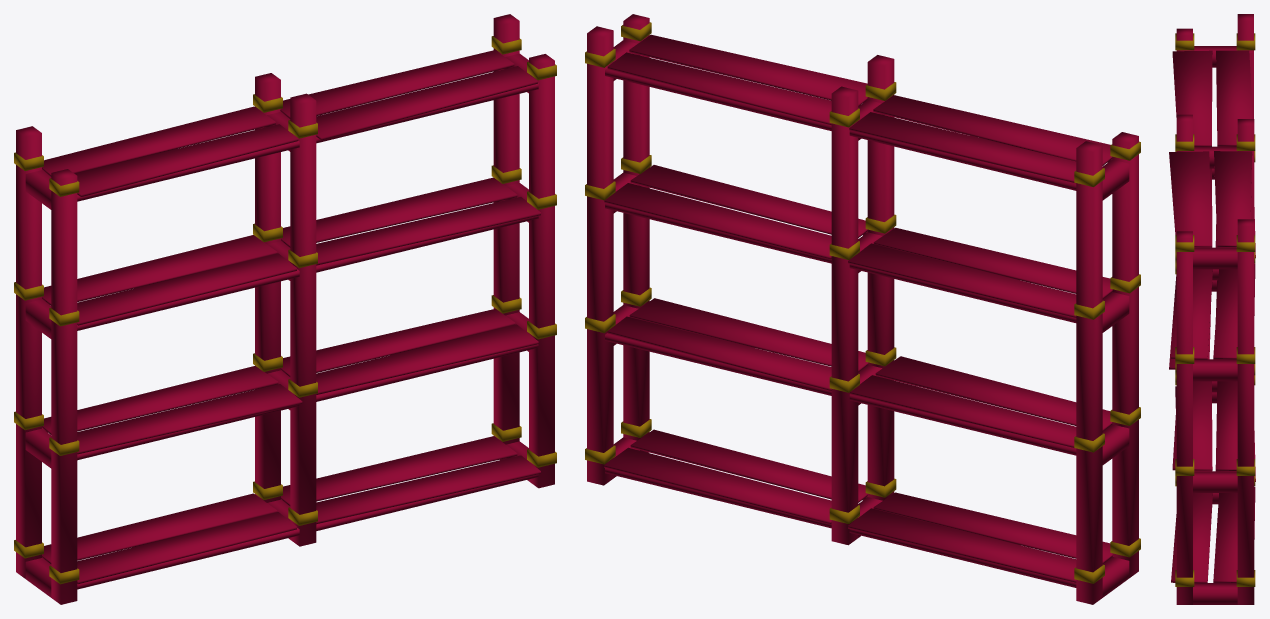
The model's file is etagere_reserve_low.fbx.
3 views of the same model, side by side, from view 1: azimuth 30°, elevation 25°; view 2: azimuth 150°, elevation 25°; view 3: azimuth 270°, elevation 25° (orthographic). The views are drawn at different scales.
Visible parts, largest first — view 1: etagere_reserve_low; view 2: etagere_reserve_low; view 3: etagere_reserve_low.
Part boxes in pixels (x1,y1,x2,y2): etagere_reserve_low: (14, 14, 556, 604); etagere_reserve_low: (585, 14, 1140, 604); etagere_reserve_low: (1169, 14, 1255, 604).
Size of the model in its own units: 603 by 513 by 105.
